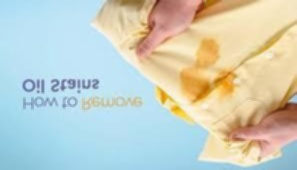oil: (176, 41, 222, 101), (212, 71, 235, 96)
